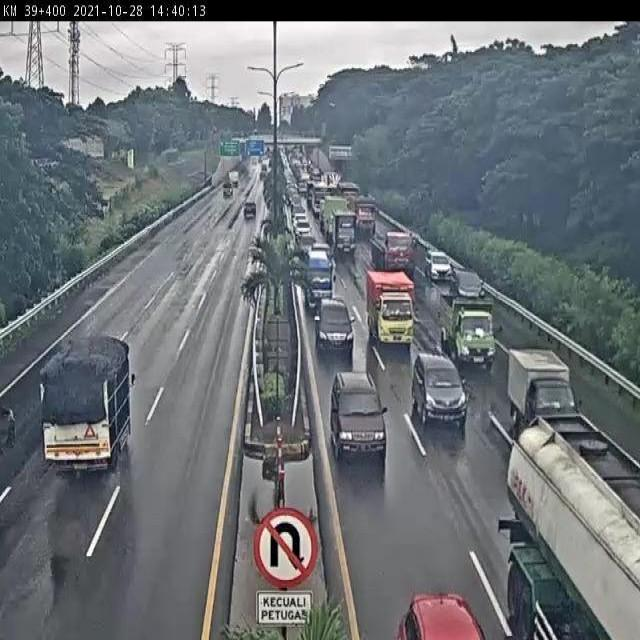big truck: (371, 228, 416, 272)
car: (510, 349, 584, 436), (329, 372, 387, 455), (413, 352, 468, 427), (316, 296, 355, 353), (451, 269, 489, 311), (425, 245, 454, 284)
small bus: (303, 247, 339, 316)
small truck: (364, 265, 416, 344), (438, 296, 495, 363)
truck-m-: (41, 332, 136, 471)
